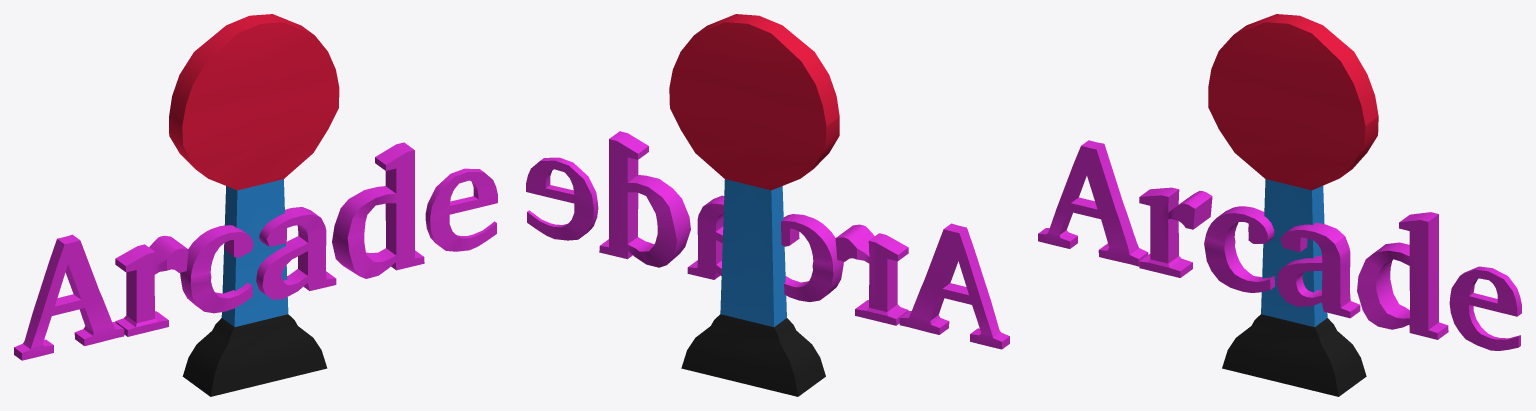
Rendered from Arcade.fbx.
The picture shows the model from 3 angles, left to right: view 1: azimuth 30°, elevation 25°; view 2: azimuth 150°, elevation 25°; view 3: azimuth 330°, elevation 25°; orthographic projection.
Visible parts, largest first — view 1: Cube, Cube.001; view 2: Cube, Cube.001; view 3: Cube, Cube.001.
Part boxes in pixels (x1,y1,x2,y2): Cube: (169,14,339,396); Cube.001: (14,142,497,360); Cube: (669,14,839,396); Cube.001: (526,131,1009,349); Cube: (1208,14,1378,396); Cube.001: (1038,140,1521,350).
Bounding box in the file's own units: 3.58 × 0.3936 × 2.53.
